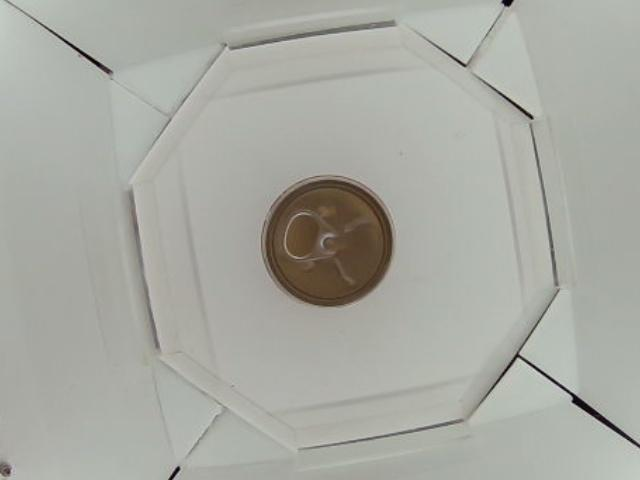Bottle: (257, 175, 396, 311)
